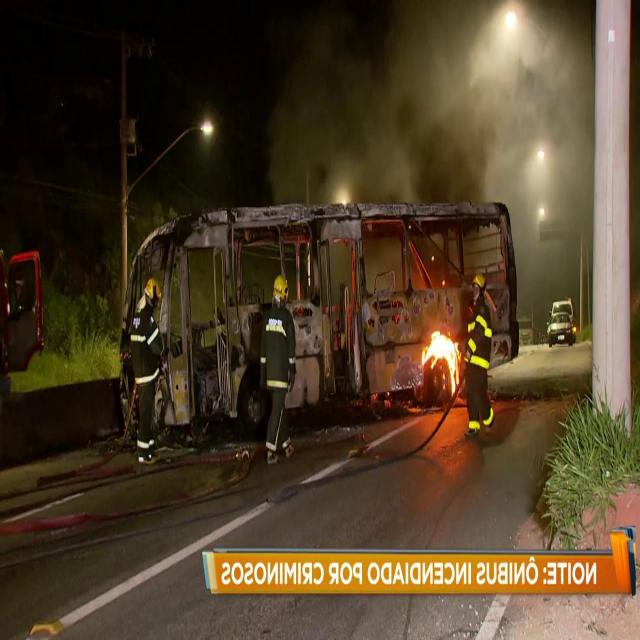fire: (417, 322, 463, 401)
